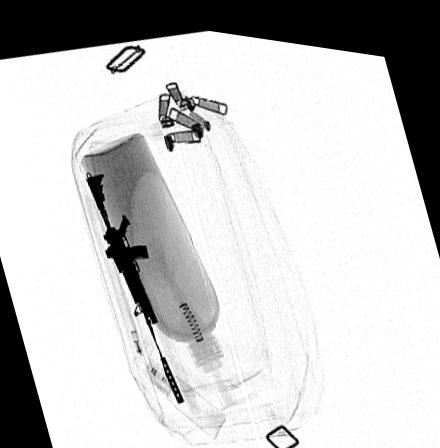Gun: (86, 168, 186, 400)
